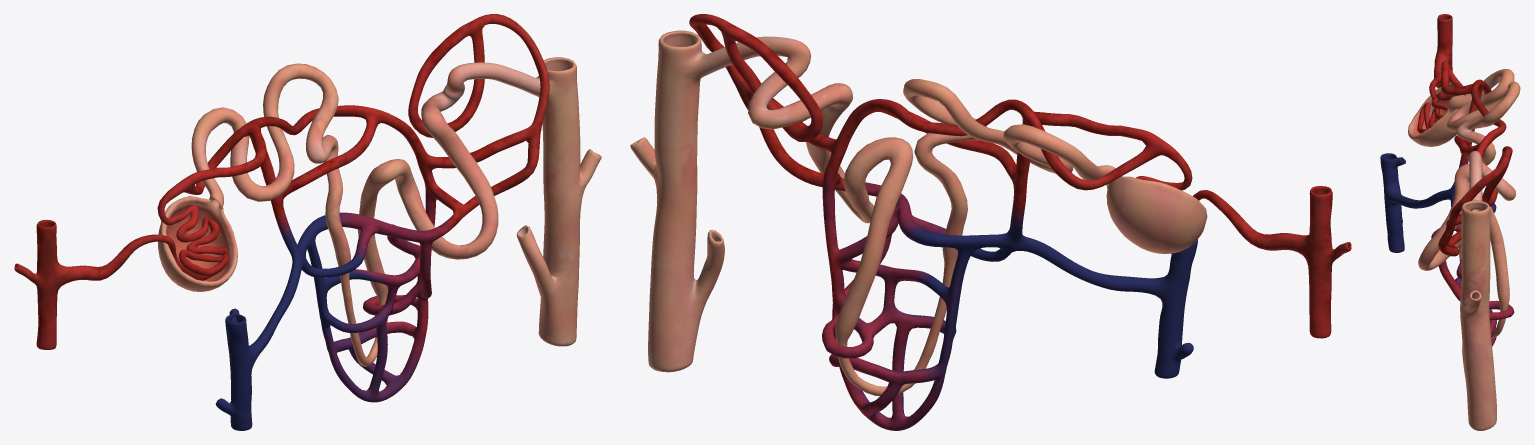
Rendered from prevention-glomerulonefritis.glb.
The picture shows the model from 3 angles, left to right: view 1: azimuth 30°, elevation 25°; view 2: azimuth 150°, elevation 25°; view 3: azimuth 270°, elevation 25°; orthographic projection. The views are drawn at different scales.
Visible parts, largest first — view 1: BloodVeins, NephronBody; view 2: NephronBody, BloodVeins; view 3: NephronBody, BloodVeins.
Boxes of the visible parts, box(x1,y1,x2,y2) form: BloodVeins: box(14, 14, 549, 430); NephronBody: box(158, 57, 601, 366); NephronBody: box(630, 30, 1207, 396); BloodVeins: box(689, 14, 1351, 430); NephronBody: box(1408, 69, 1520, 430); BloodVeins: box(1380, 14, 1514, 346).
Bounding box in the file's own units: 3.4 × 1.83 × 0.8833.
Materials: 2 (2 with a texture image).
